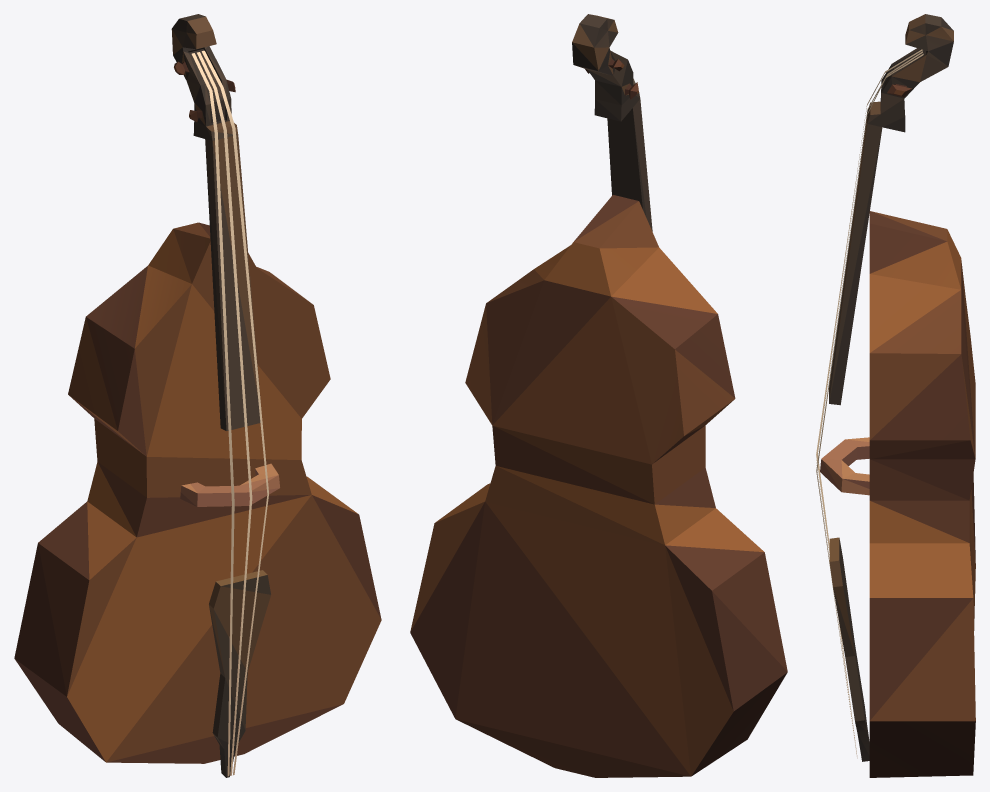
The model's file is strings_bass.fbx.
3 views of the same model, side by side, from view 1: azimuth 30°, elevation 25°; view 2: azimuth 150°, elevation 25°; view 3: azimuth 270°, elevation 25° (orthographic). The views are drawn at different scales.
Visible parts, largest first — view 1: strings_bass; view 2: strings_bass; view 3: strings_bass.
Boxes of the visible parts, x1,y1,x2,y2 form: strings_bass: (14,14,381,777); strings_bass: (410,14,787,777); strings_bass: (816,14,975,777).
Bounding box in the file's own units: 73.43 × 164 × 32.
